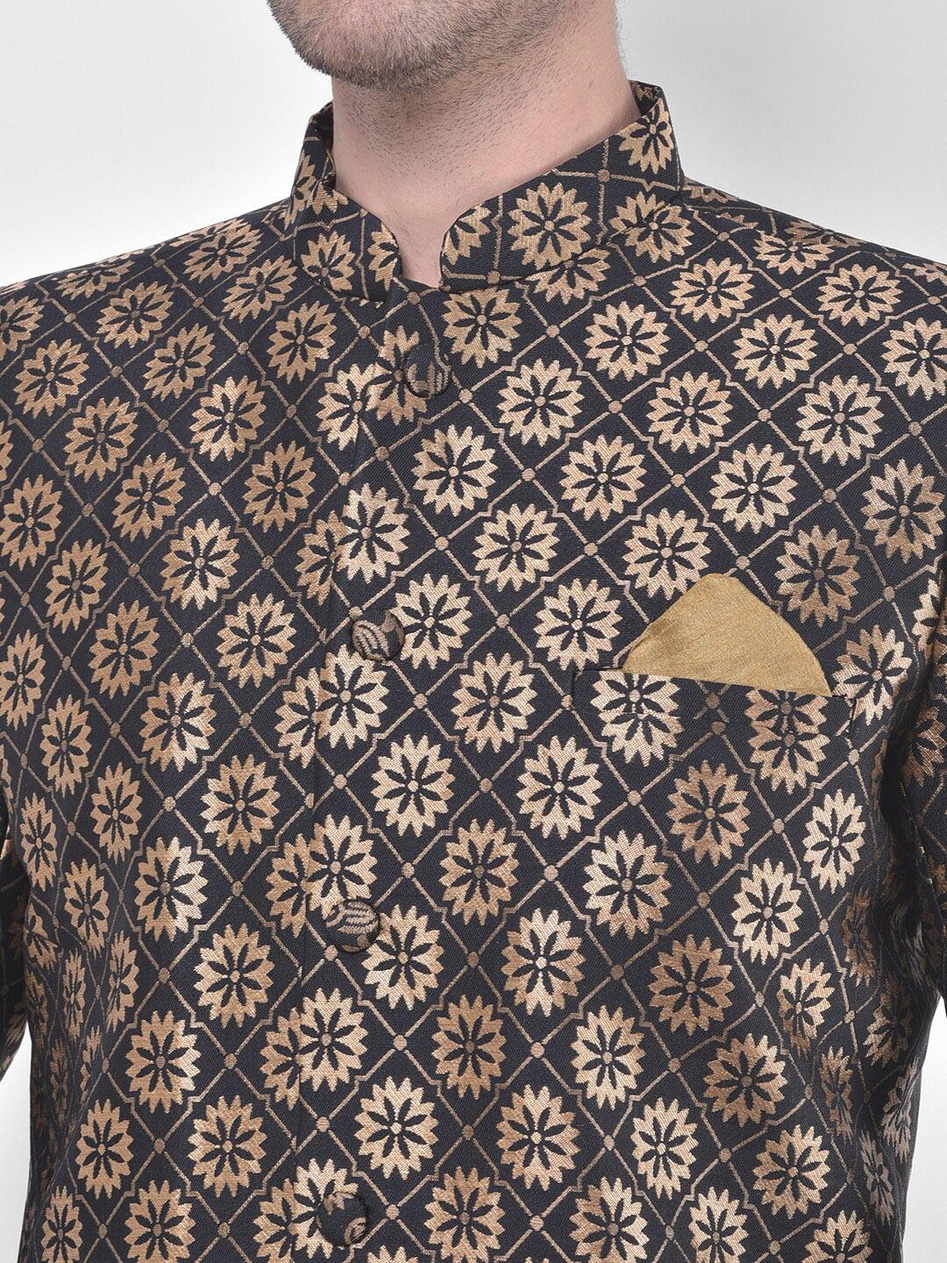Desgin sherwani: (0, 77, 945, 1258)
